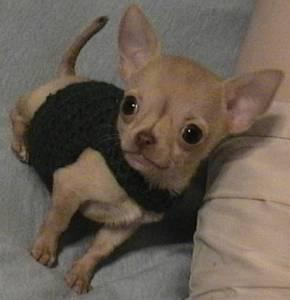dog-chihuahua: (116, 3, 283, 172)
